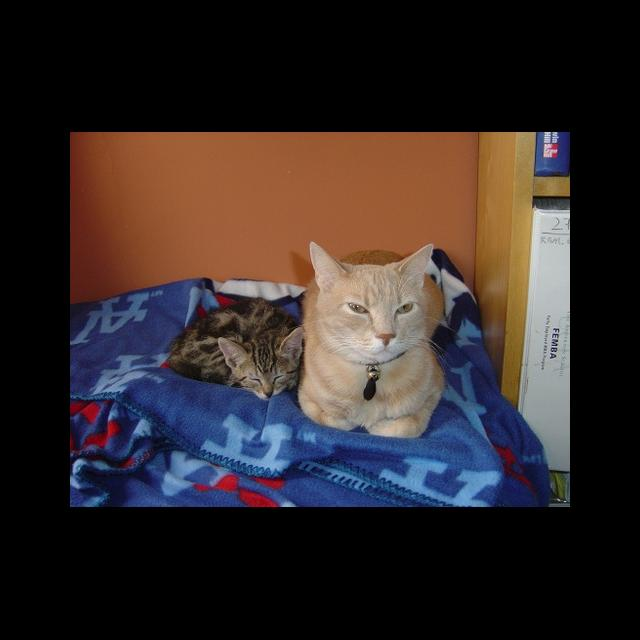animals: (313, 242, 432, 344)
